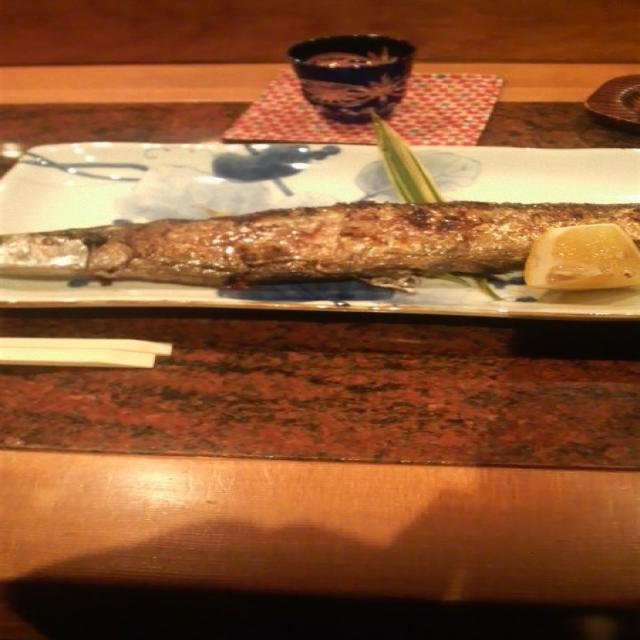熟制海鲜: (0, 182, 640, 297)
